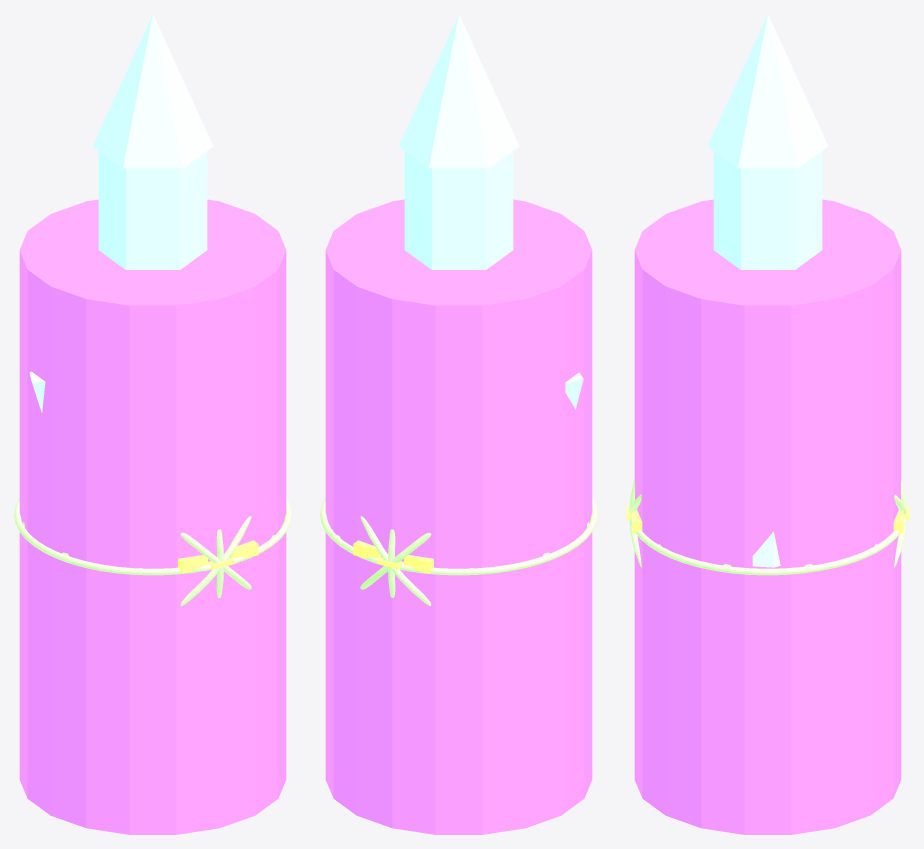
Rendered from vfx_omnix.glb.
3 renders of one model, left to right at view 1: azimuth 30°, elevation 25°; view 2: azimuth 150°, elevation 25°; view 3: azimuth 270°, elevation 25°, orthographic.
Parts seen in each view (by area): view 1: Cosmix_CosmicJudgementBeam, Glacios_CitadelSpire, Toxion_PlagueDome, Georoc_ChasmFissure; view 2: Cosmix_CosmicJudgementBeam, Glacios_CitadelSpire, Toxion_PlagueDome, Georoc_ChasmFissure; view 3: Cosmix_CosmicJudgementBeam, Glacios_CitadelSpire, Toxion_PlagueDome, Georoc_ChasmFissure.
Boxes of the visible parts, left/top/right/bottom form: Cosmix_CosmicJudgementBeam: left=19, top=199, right=286, bottom=834; Glacios_CitadelSpire: left=29, top=14, right=213, bottom=412; Toxion_PlagueDome: left=14, top=498, right=291, bottom=606; Georoc_ChasmFissure: left=178, top=540, right=258, bottom=573; Cosmix_CosmicJudgementBeam: left=325, top=199, right=592, bottom=834; Glacios_CitadelSpire: left=398, top=14, right=583, bottom=409; Toxion_PlagueDome: left=320, top=498, right=597, bottom=606; Georoc_ChasmFissure: left=353, top=540, right=433, bottom=573; Cosmix_CosmicJudgementBeam: left=634, top=199, right=901, bottom=834; Glacios_CitadelSpire: left=707, top=14, right=828, bottom=567; Toxion_PlagueDome: left=629, top=479, right=906, bottom=575; Georoc_ChasmFissure: left=626, top=485, right=909, bottom=533.
Bounding box in the file's own units: 6.74 × 20.25 × 6.8.
